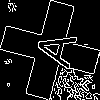A: (25, 25, 77, 69)
